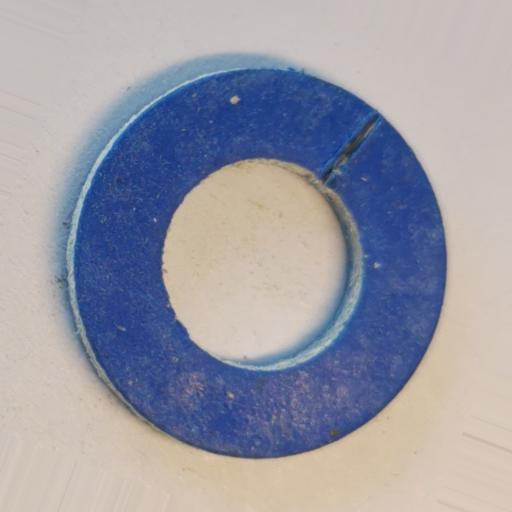defect: (322, 113, 382, 184)
